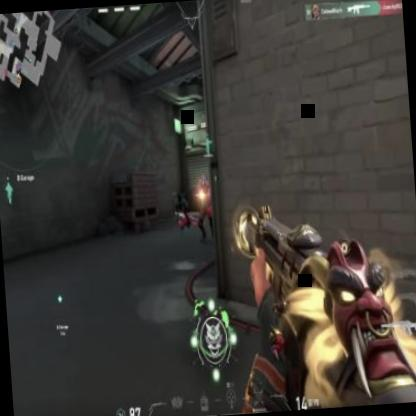enemy: (193, 172, 216, 247)
enemy_head: (200, 175, 206, 189)
